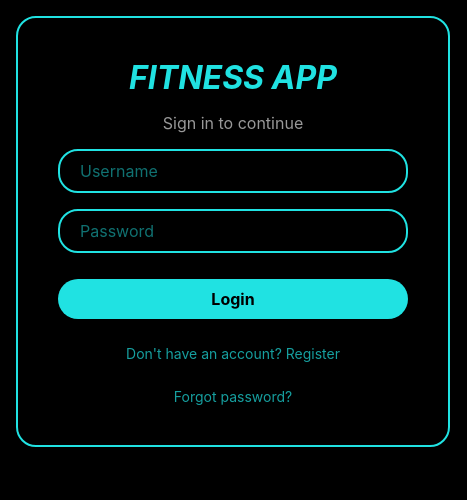
Test: LoginPage › shows error on incorrect credentials from server response
Type "u" into the field with placeholder "Username". click: (233, 171)
box: [58,149,408,193]
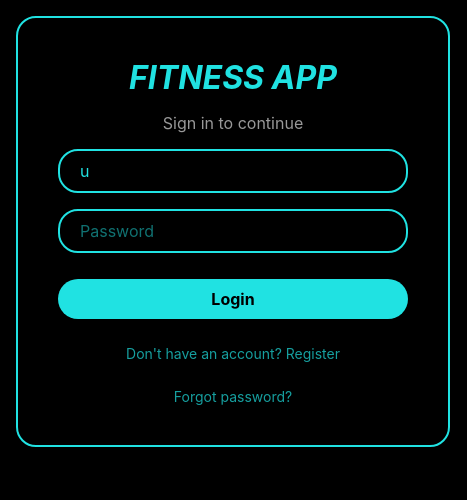
Type "p" into the password field with placeholder "Password". click: (233, 231)
box: [58,209,408,253]
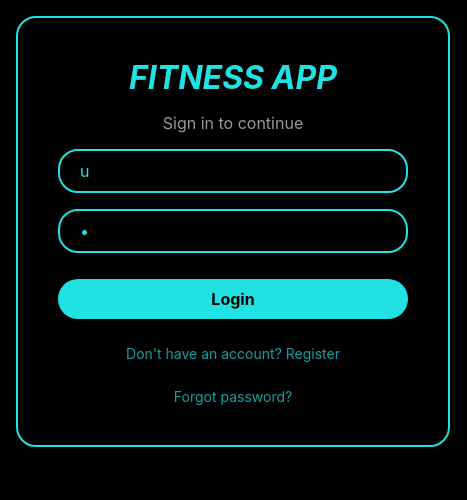
Click the button "Login". click: (233, 299)
box: [58,279,408,319]
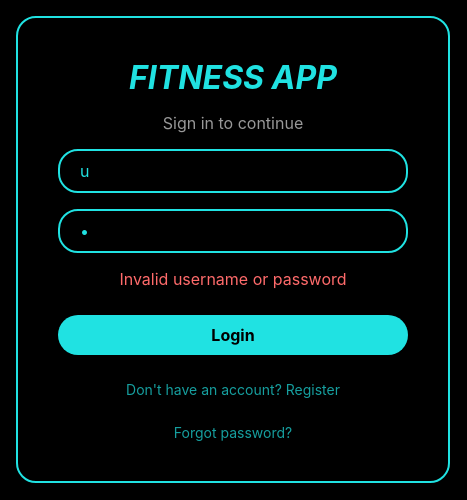
Now the text "Invalid username or password" is shown, box [119,269,347,289]
